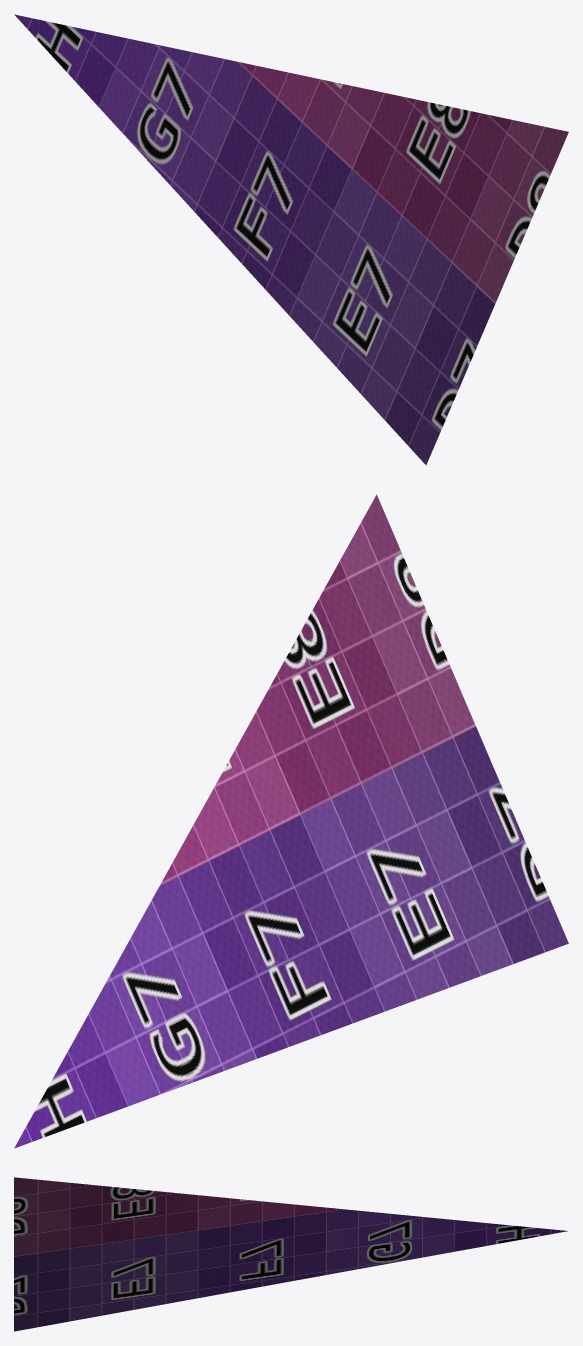
The picture shows the model from 3 angles, top to bottom: view 1: azimuth 30°, elevation 25°; view 2: azimuth 150°, elevation 25°; view 3: azimuth 270°, elevation 25°; orthographic projection. The views are drawn at different scales.
Visible parts, largest first — view 1: Planetest_fullhitbox.001; view 2: Planetest_fullhitbox.001; view 3: Planetest_fullhitbox.001.
Part boxes in pixels (box(x1,y1,x2,y2)): Planetest_fullhitbox.001: box(14, 14, 568, 465); Planetest_fullhitbox.001: box(14, 494, 568, 1148); Planetest_fullhitbox.001: box(14, 1177, 567, 1331).
Size of the model in its own units: 1 by 2 by 5.
1 material, 1 textured.
